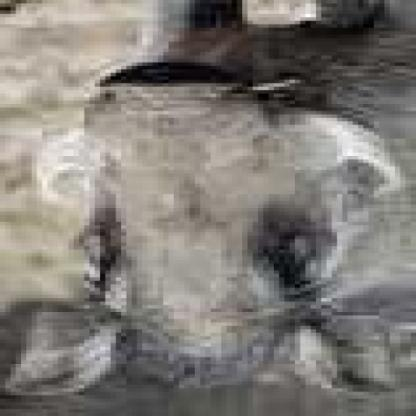boar: (21, 12, 415, 416)
